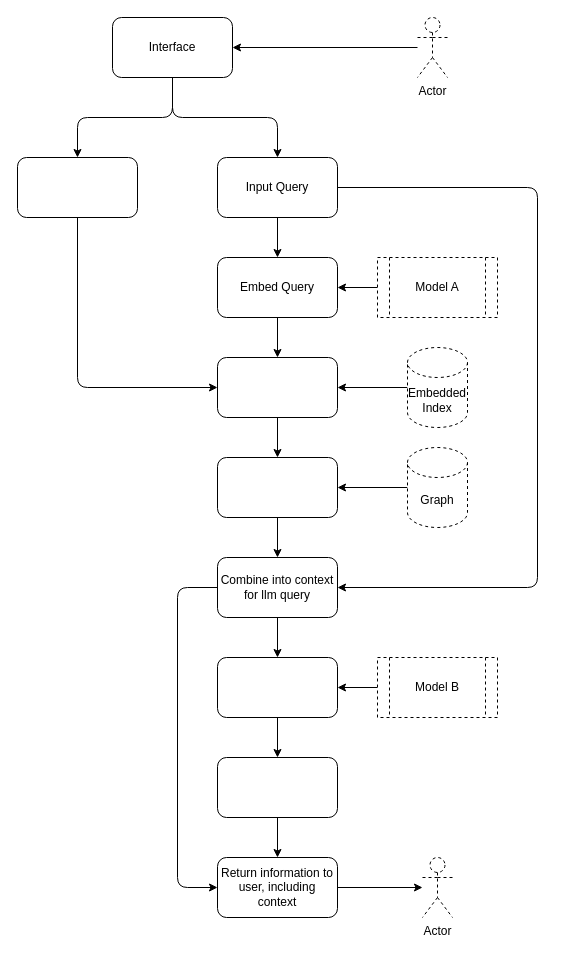
This 563x956 diagram has some shape labels left out. The centre of each missing label's shape, as x and y in pixels:
Identify most similar node in document: [277,387]
Identify most similar nodes in graph (to document node): [277,487]
Query LLM: [277,687]
Select Anchor Document: [77,187]
Spit out response: [277,787]
